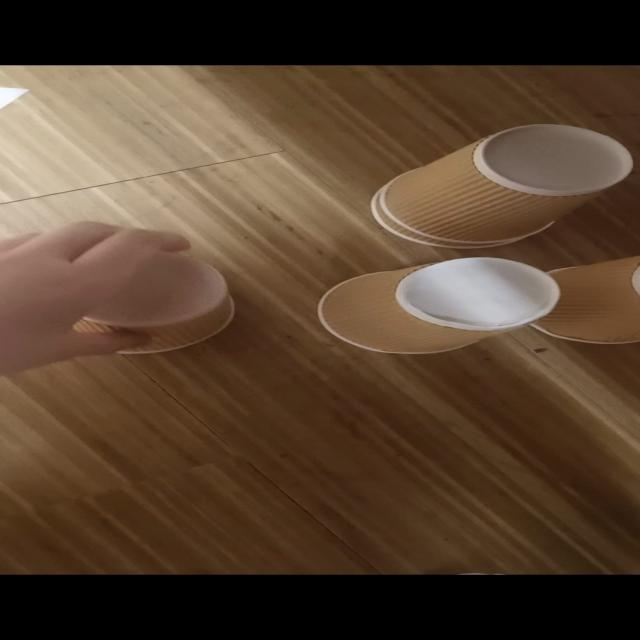Browncup: (371, 125, 632, 249), (320, 256, 560, 354), (70, 251, 236, 352), (529, 257, 639, 344)
